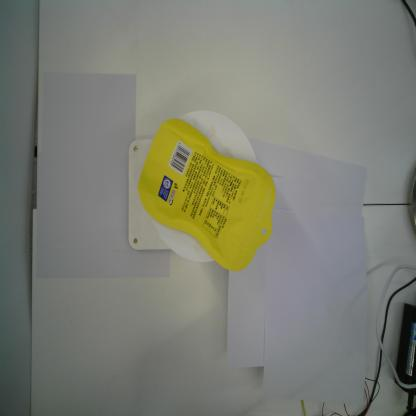Dried Fruit: (136, 116, 278, 275)
